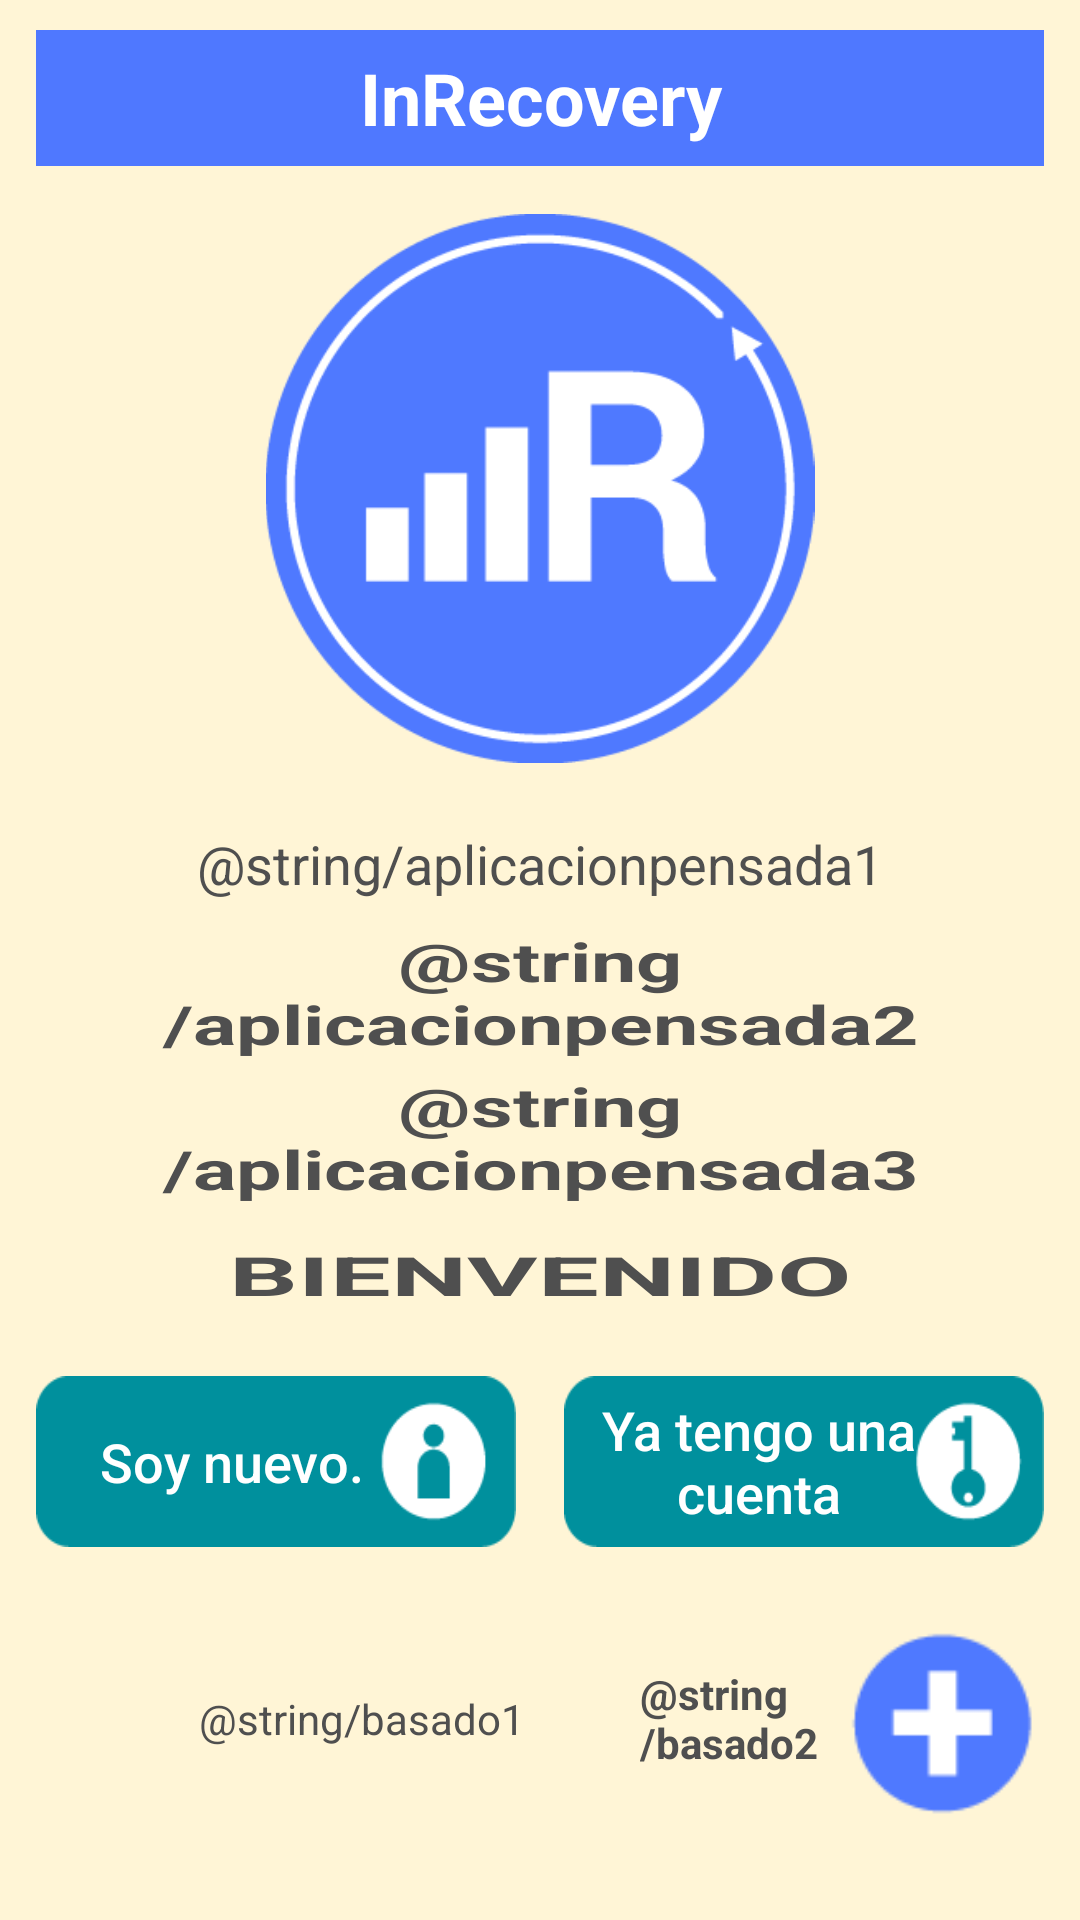

Where icons sit on this 1080 × 1920 app screen, as {"x1": x1, "y1": y1, "x2": x2, "y2": y2}:
mas: {"x1": 852, "y1": 1634, "x2": 1032, "y2": 1813}
